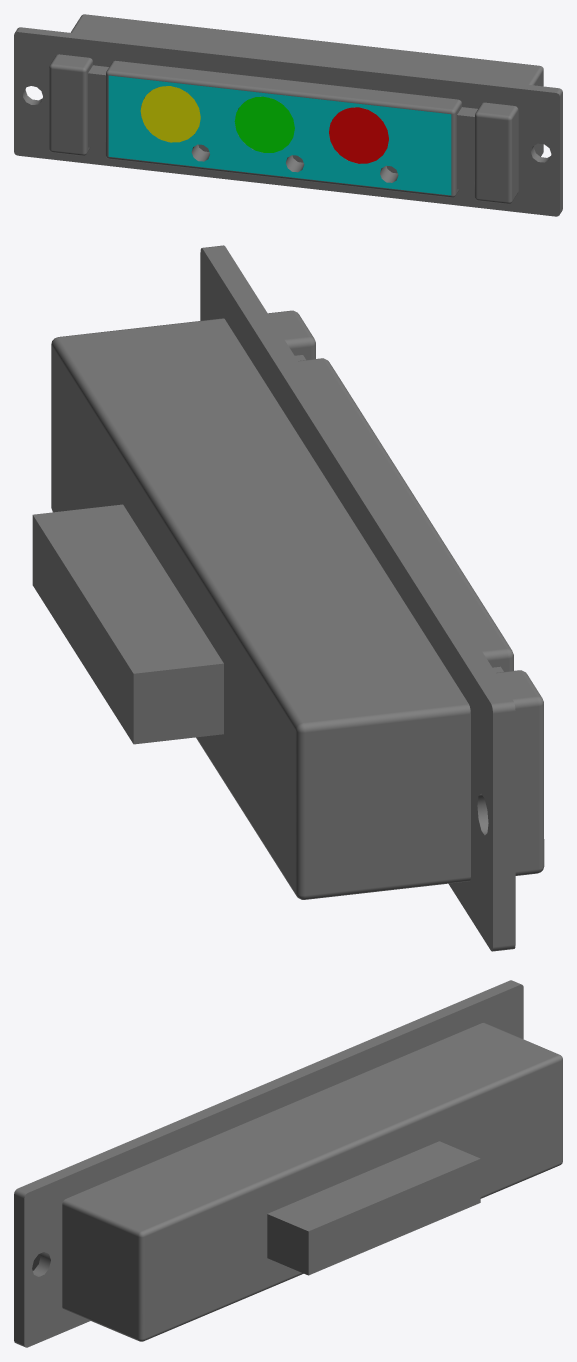
File: 04.1_blok-indikatsii-napryazheniya-evi-1.glb
3 views of the same model, one above another, from view 1: azimuth 30°, elevation 25°; view 2: azimuth 150°, elevation 25°; view 3: azimuth 270°, elevation 25° (orthographic). The views are drawn at different scales.
Visible parts, largest first — view 1: 04.1_blok-indikatsii-napryazheniya-evi-1; view 2: 04.1_blok-indikatsii-napryazheniya-evi-1; view 3: 04.1_blok-indikatsii-napryazheniya-evi-1.
Part boxes in pixels (x1,y1,x2,y2): 04.1_blok-indikatsii-napryazheniya-evi-1: (14,14,562,216); 04.1_blok-indikatsii-napryazheniya-evi-1: (32,245,544,951); 04.1_blok-indikatsii-napryazheniya-evi-1: (14,980,562,1347).
Bounding box in the file's own units: 113 × 35 × 113.
